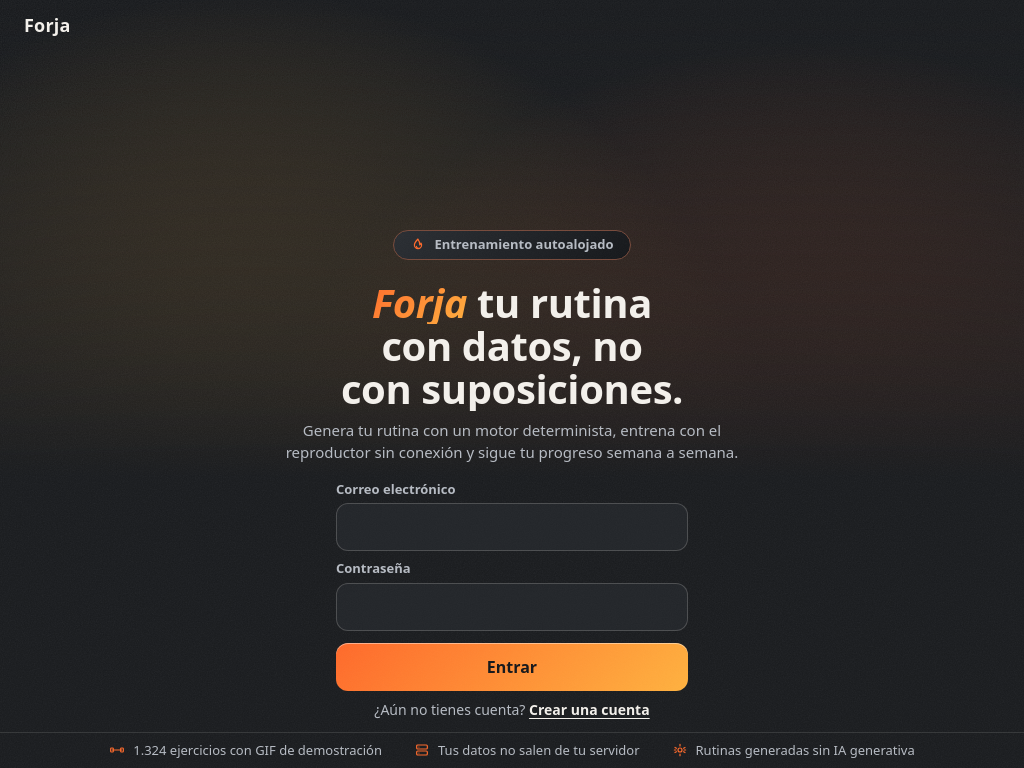
Test: guarda de sesión › login: estado 429 muestra el mensaje adecuado
Type "a@x.com" into the field labelled "Correo electrónico" at (512, 527), box 336,503 -> 688,551
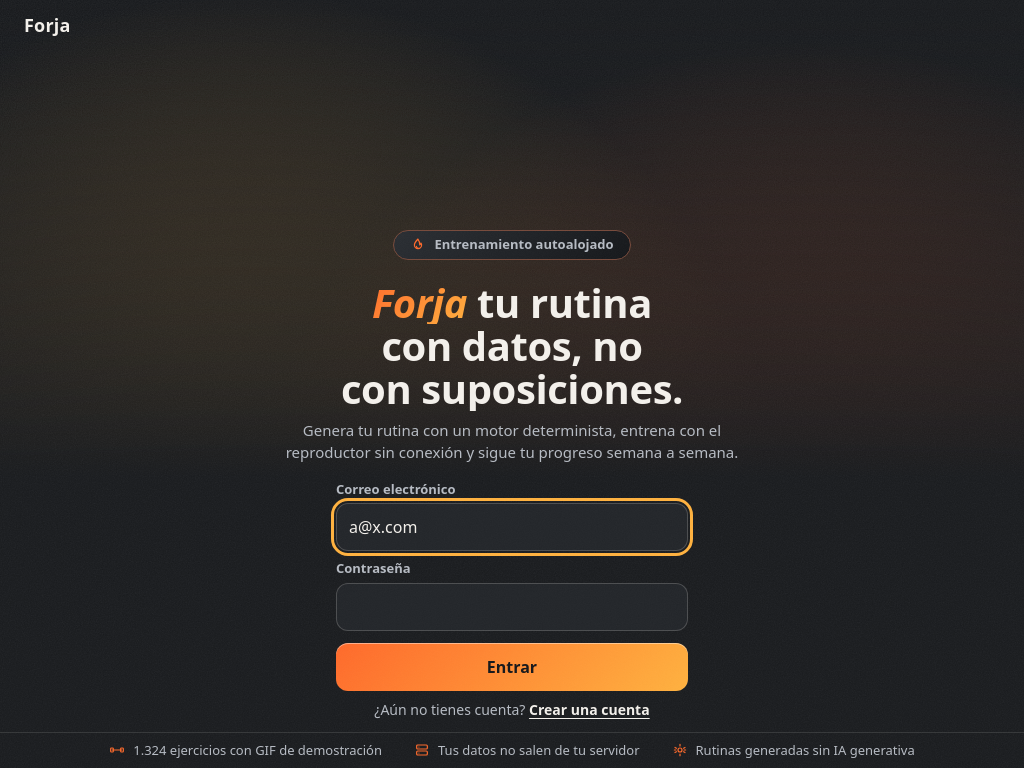
Type "clave" into the password field labelled "Contraseña" at (512, 606), box 336,582 -> 688,630
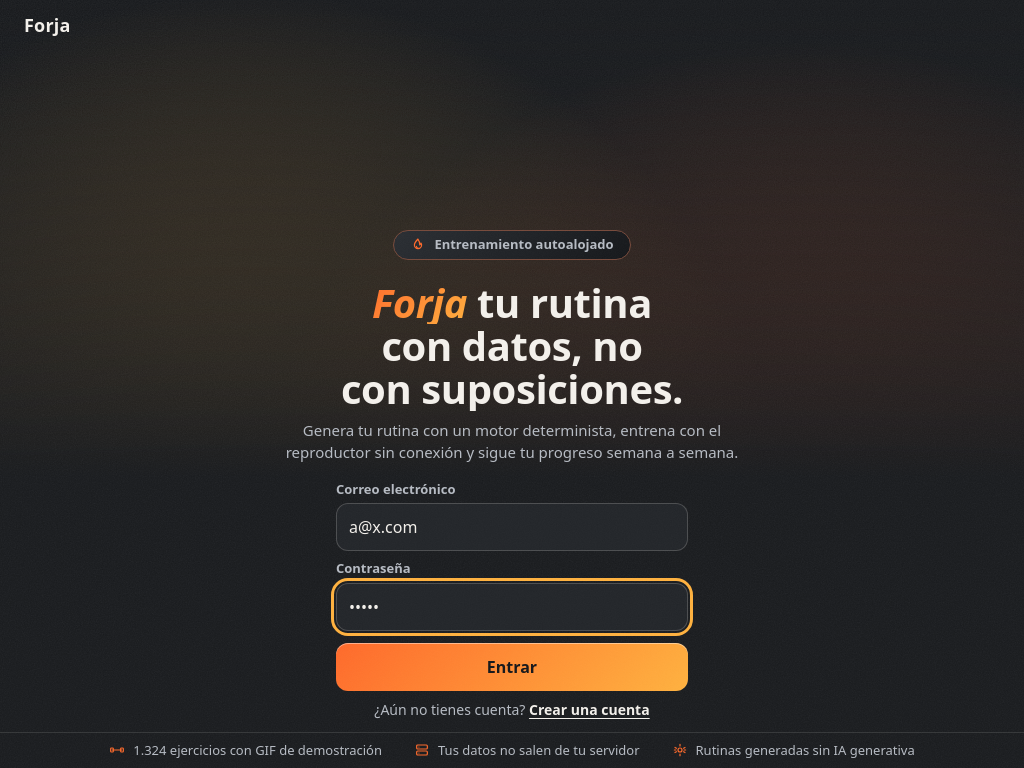
Click the button "Entrar" at (512, 666), box 336,642 -> 688,690
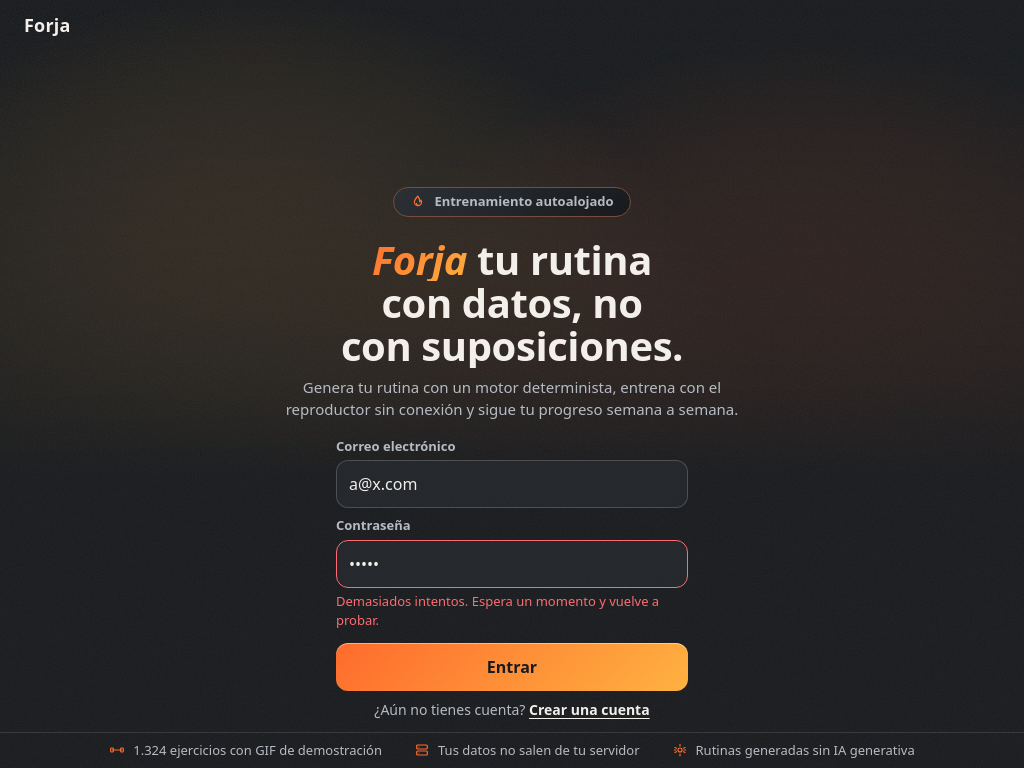
Result: the text "Demasiados intentos. Espera un momento y vuelve a probar." is shown at 336,592 -> 688,630
